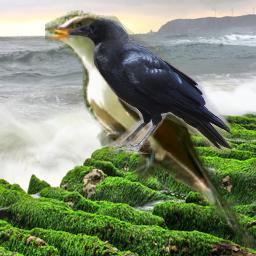Crow: (66, 15, 231, 154)
Cuckoo: (45, 9, 256, 252)
